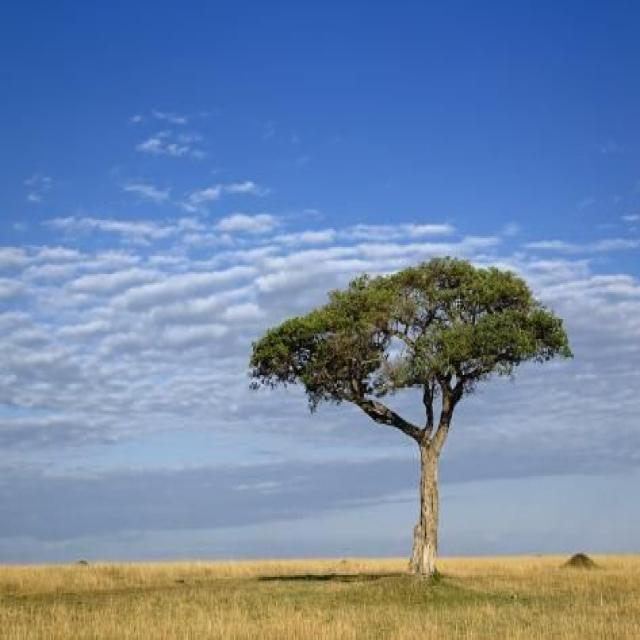Acacia: (238, 274, 569, 575)
